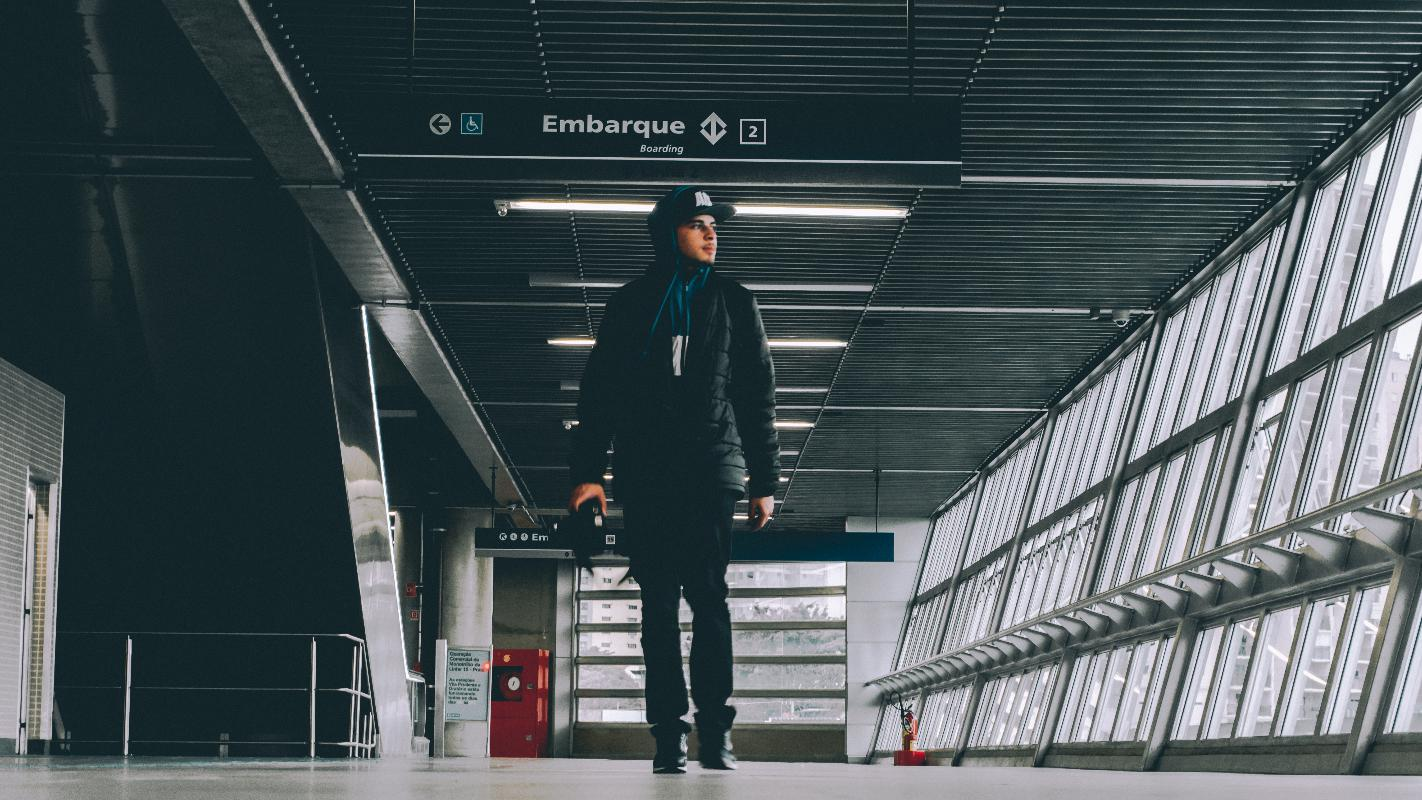Person: (560, 171, 791, 784)
